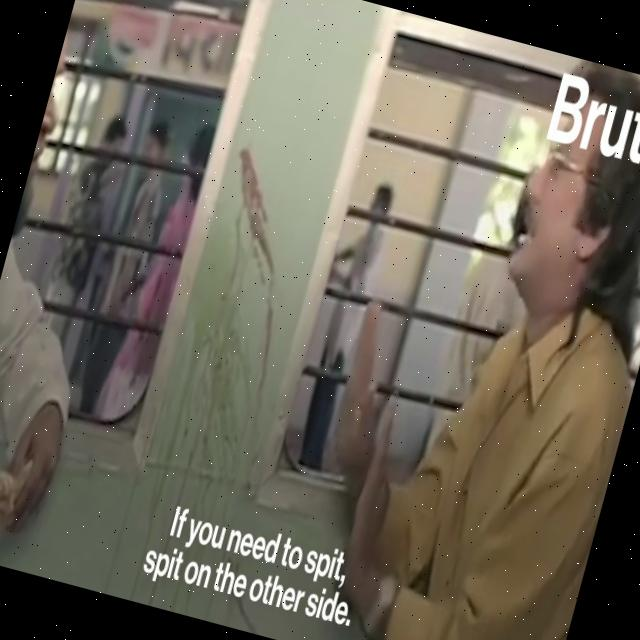spit: (112, 135, 364, 578)
